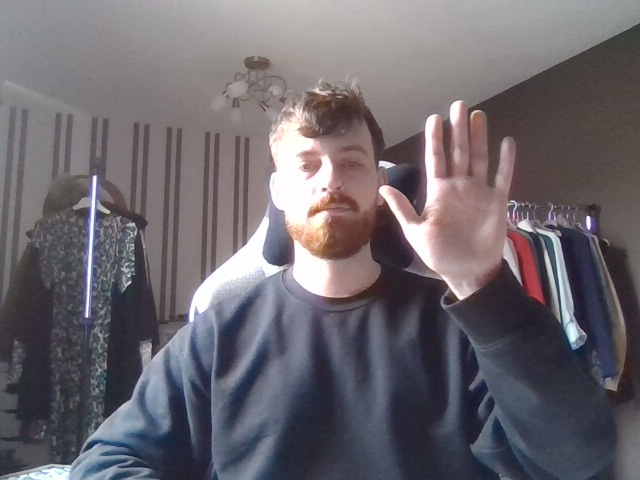Hello: (374, 93, 526, 296)
